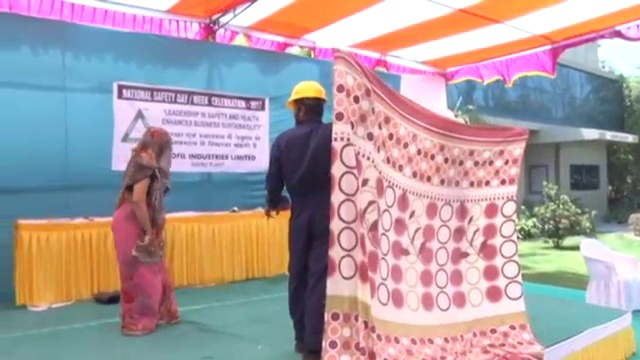helmet: (286, 79, 329, 111)
helmet_off: (144, 126, 173, 153)
helmet_on: (285, 79, 329, 128)
person: (262, 78, 333, 360), (110, 125, 181, 335)
